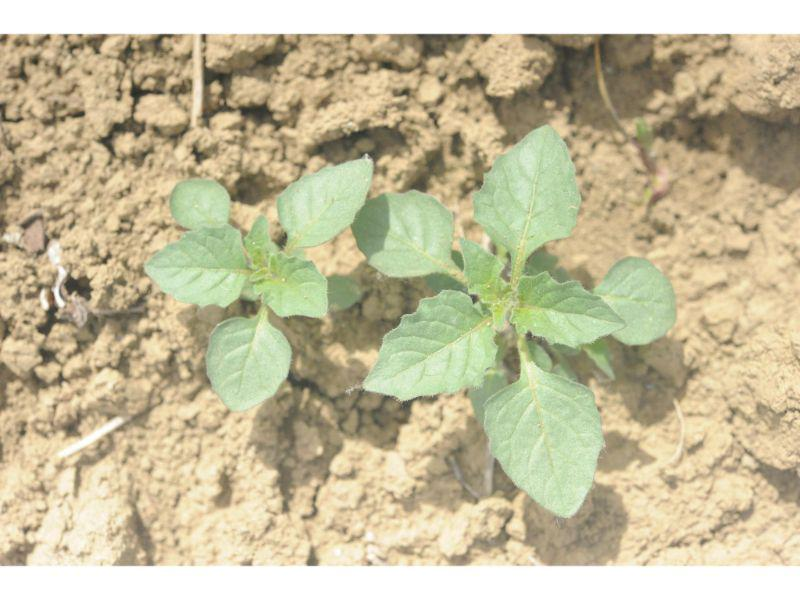nightshade: (355, 126, 675, 520), (146, 154, 375, 412)
